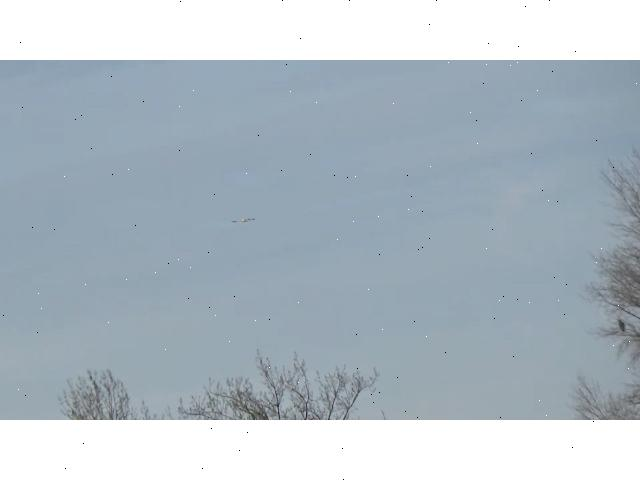Anti-Drone: (232, 219, 256, 223)
